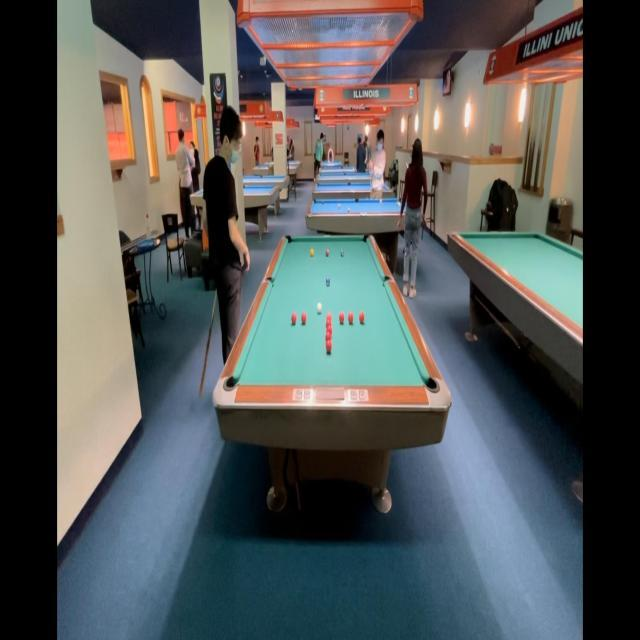Ball: (301, 312, 307, 324), (326, 340, 332, 352), (348, 312, 354, 324), (326, 326, 332, 336), (325, 332, 331, 342), (317, 302, 322, 314), (326, 313, 332, 323), (339, 313, 344, 324), (326, 319, 331, 329), (360, 312, 364, 324), (292, 313, 296, 324), (310, 248, 314, 256), (326, 248, 330, 256), (326, 276, 329, 286), (341, 248, 344, 256)
Pocket: (422, 373, 439, 394), (222, 376, 240, 392), (380, 274, 392, 288), (264, 274, 274, 288), (284, 234, 293, 244), (361, 234, 370, 242)
